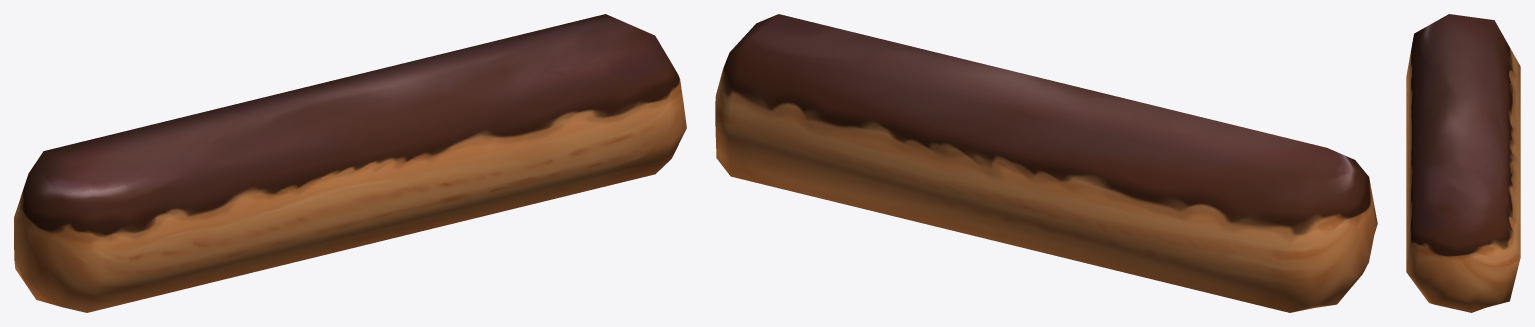
The model's file is eclair.fbx.
3 renders of one model, left to right at view 1: azimuth 30°, elevation 25°; view 2: azimuth 150°, elevation 25°; view 3: azimuth 270°, elevation 25°, orthographic. The views are drawn at different scales.
Visible parts, largest first — view 1: eclair; view 2: eclair; view 3: eclair.
Part boxes in pixels (x1,y1,x2,y2): eclair: (14,14,686,312); eclair: (715,14,1377,312); eclair: (1406,14,1520,312).
Bounding box in the file's own units: 37.83 × 8.34 × 8.27.
